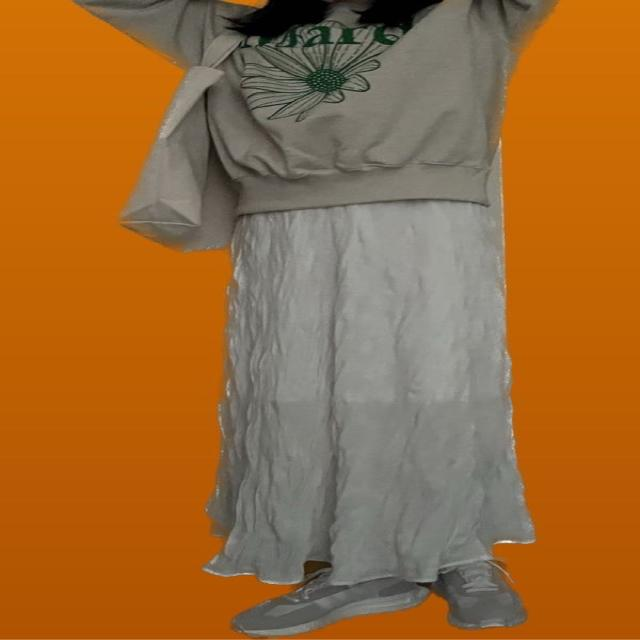mtm: (72, 0, 549, 218)
skirt: (203, 194, 532, 586)
